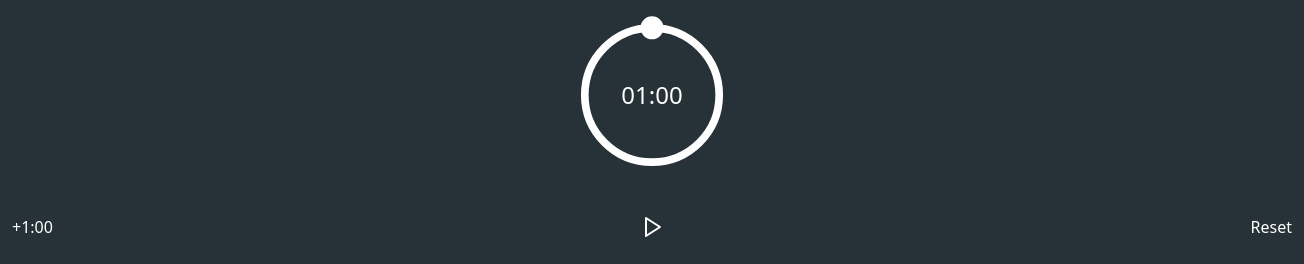
Timer Component › should stop the timer at 0
Step 1. Click the button named "Start timer" → click(652, 227), box [632,207,672,247]
Wait 60000 ms
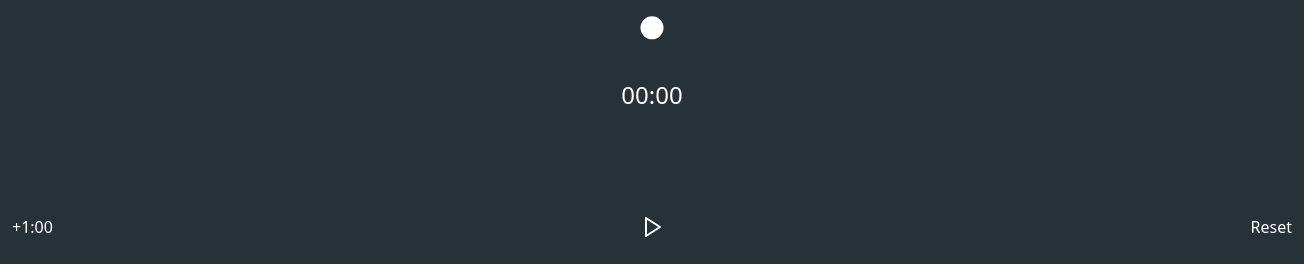
Expected: the field with test id "seconds-input" holds "00", [655,79,695,111]
Expected: the field with test id "minute-input" holds "00", [609,79,649,111]
